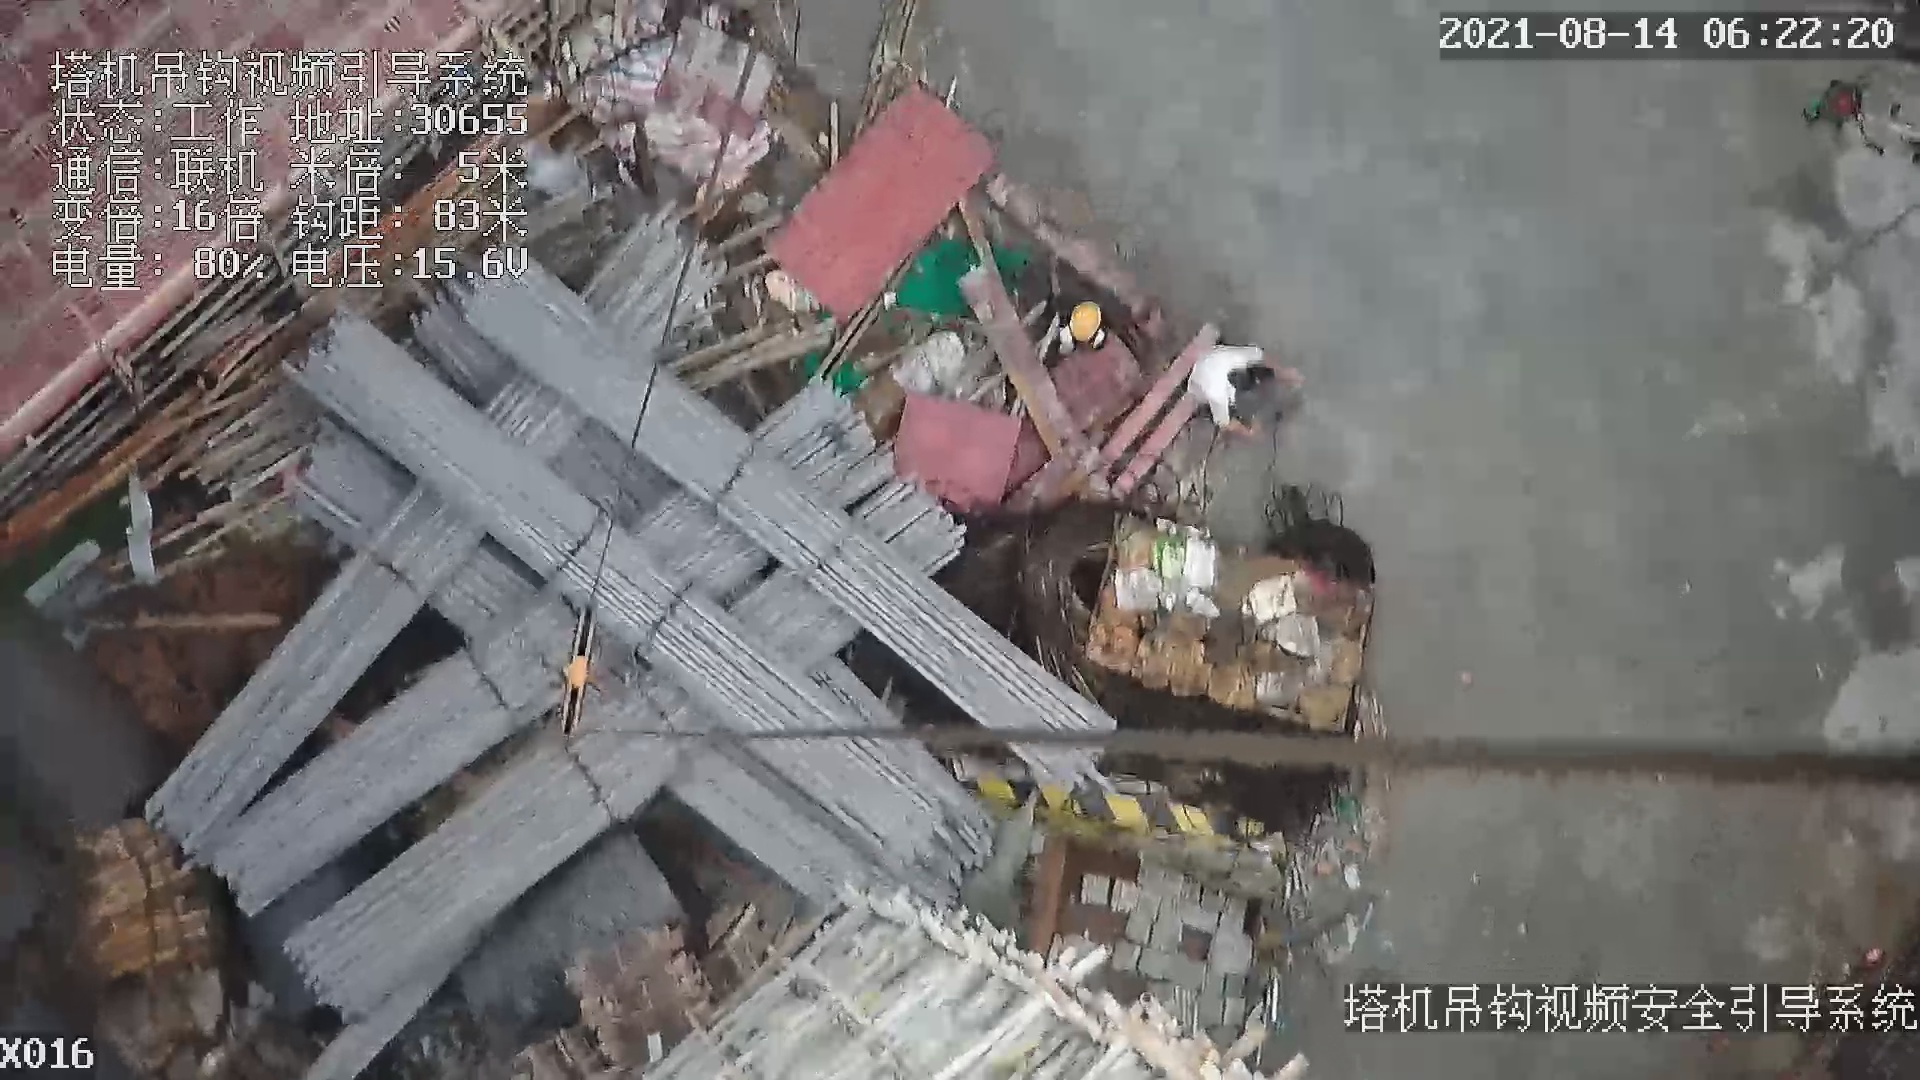helmet: (1058, 300, 1108, 354)
hook: (550, 603, 597, 739)
person: (1198, 346, 1304, 446), (1048, 296, 1129, 373)
